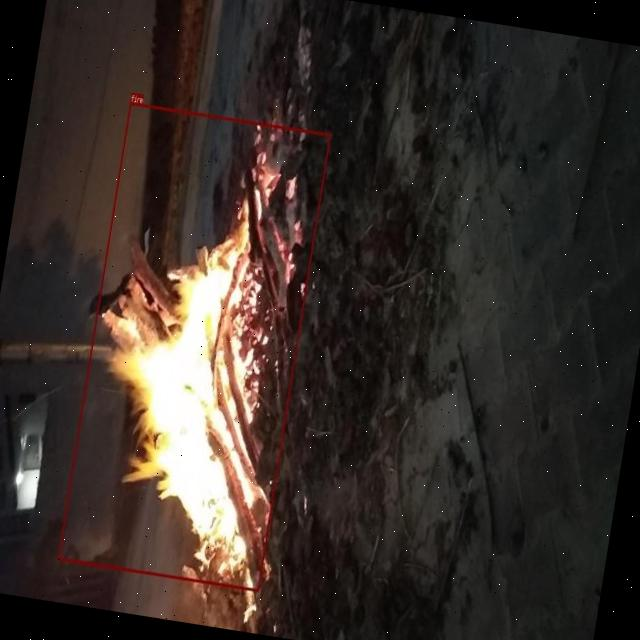fire: (58, 101, 332, 592)
